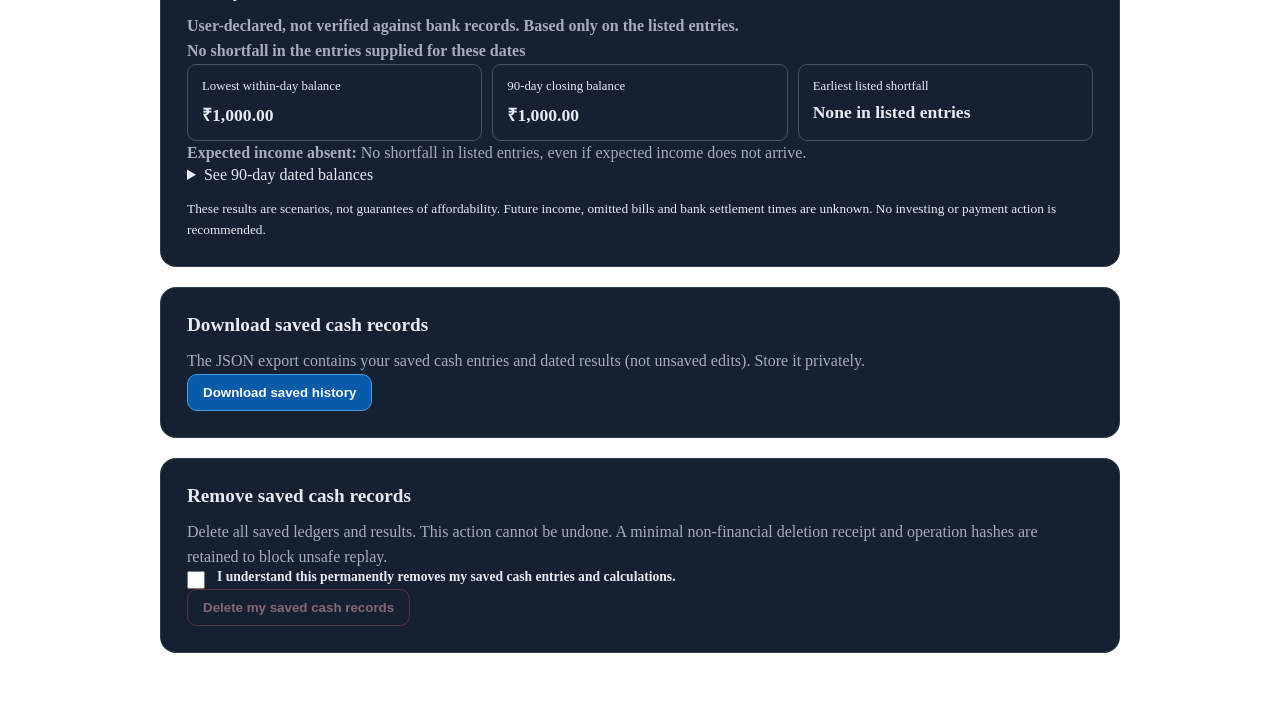
Scenario: 90-day cash check › uses the surviving tombstone revision after explicit data deletion
The image size is (1280, 713).
(page scrolled)
Click the checkbox labelled "I understand this permanently removes" at {"x": 196, "y": 580}, box [187, 571, 205, 589]
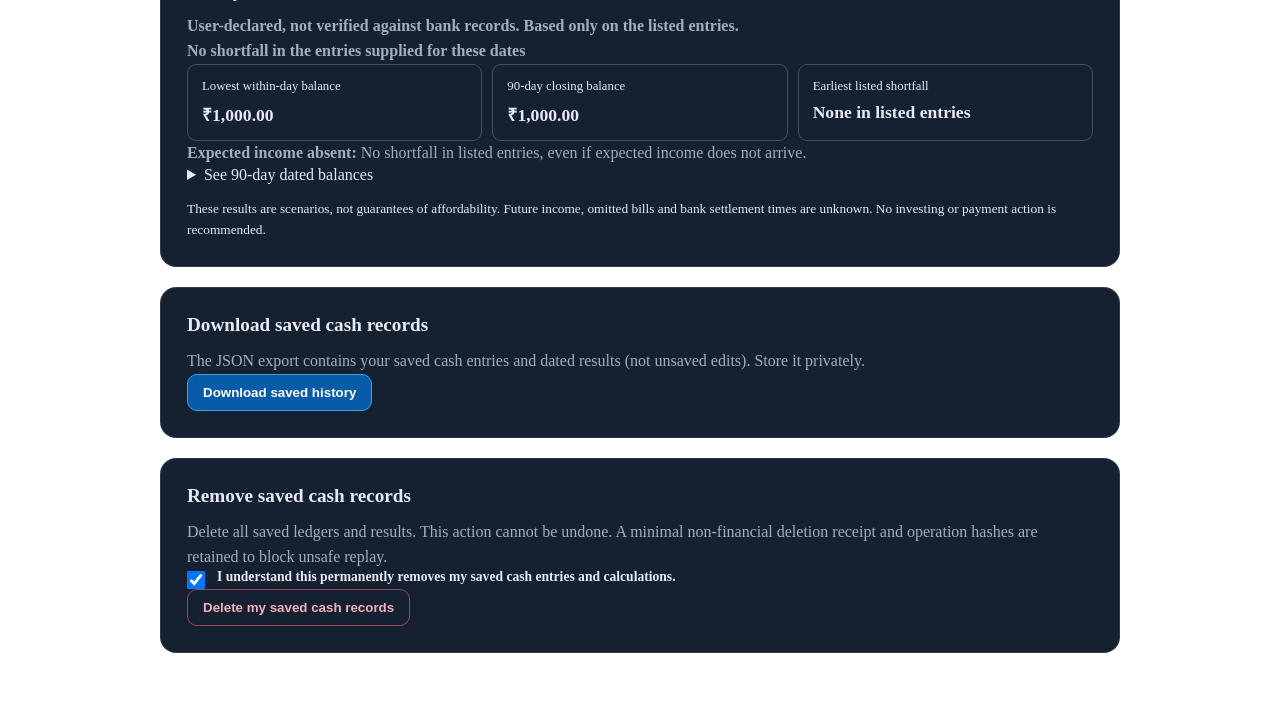
Click the button "Delete my saved cash records" at {"x": 299, "y": 608}, box [187, 589, 410, 626]
(page scrolled)
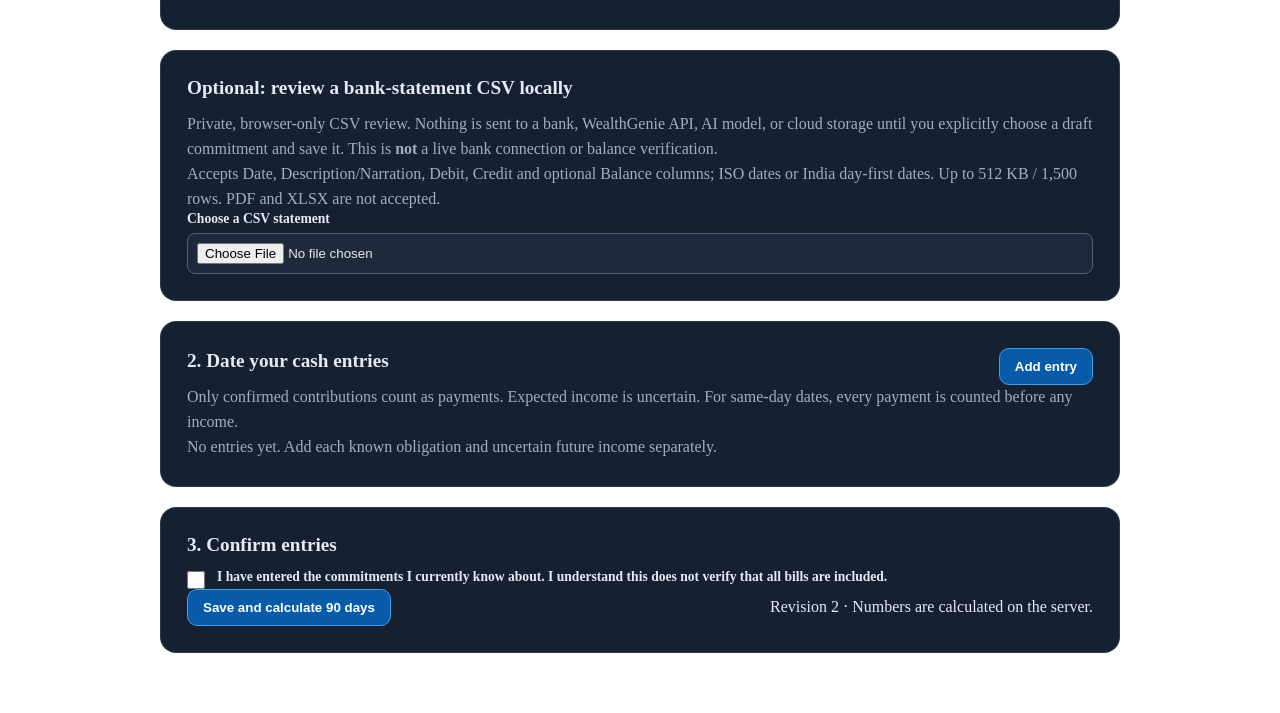
expect the text "Revision 2 · Numbers are calculated on the server." is shown: met, box [770, 598, 1093, 616]
expect the text "No shortfall in the entries supplied for these dates" is gone: met
